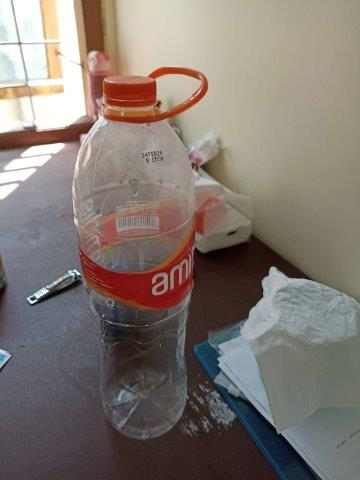botolplastik: (73, 74, 193, 440)
